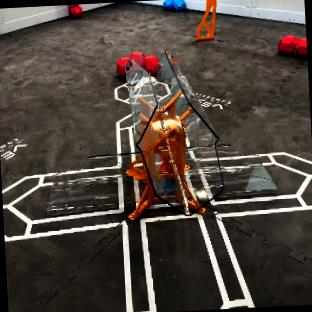Med_goal: (126, 51, 222, 218)
